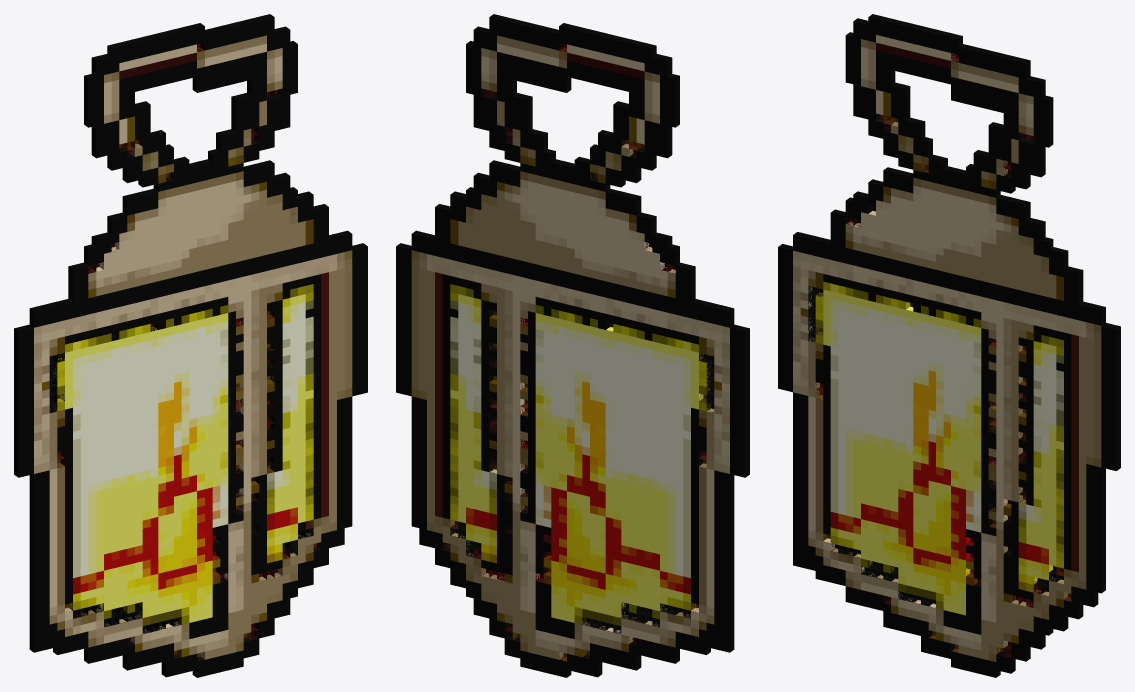
Rendered from AncientLamp.fbx.
The picture shows the model from 3 angles, left to right: view 1: azimuth 30°, elevation 25°; view 2: azimuth 150°, elevation 25°; view 3: azimuth 330°, elevation 25°; orthographic projection. The views are drawn at different scales.
Parts seen in each view (by area): view 1: ancientlamp; view 2: ancientlamp; view 3: ancientlamp.
Part boxes in pixels (left/top/right/bottom): ancientlamp: left=14, top=14, right=367, bottom=677; ancientlamp: left=396, top=14, right=749, bottom=677; ancientlamp: left=778, top=14, right=1120, bottom=677.
Bounding box in the file's own units: 4444 × 7900 × 98.75.
